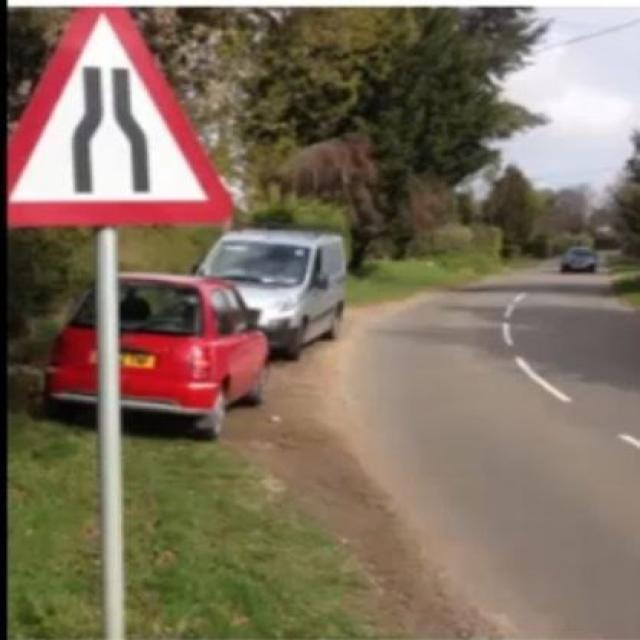narrow road ahead: (18, 23, 234, 229)
